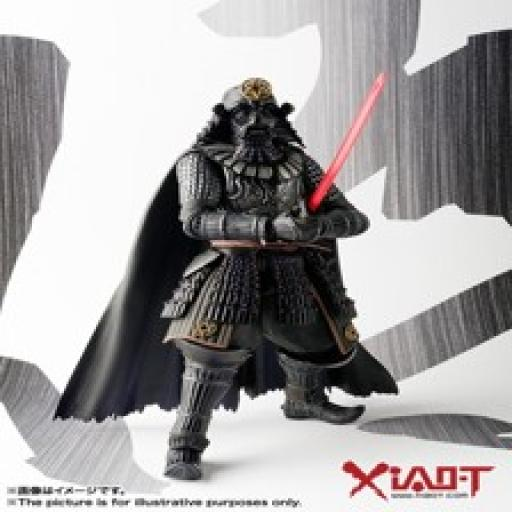human: (149, 70, 371, 512)
sith saber: (294, 66, 393, 228)
